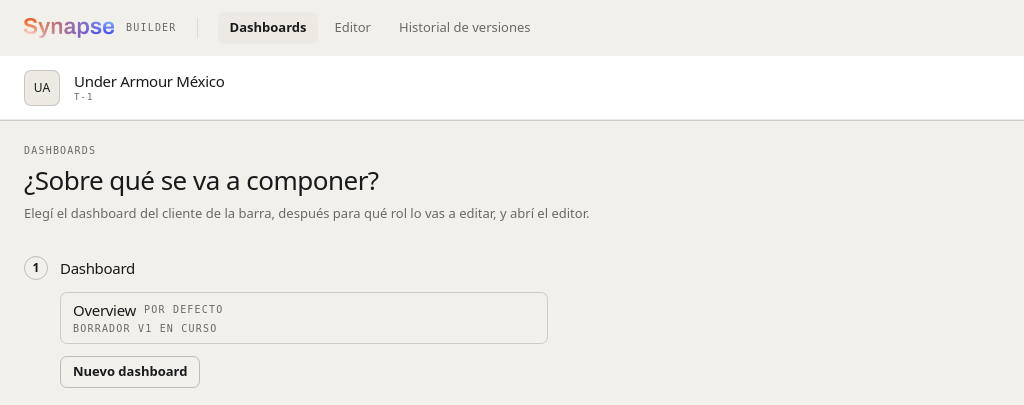
las pantallas que todavía no se pueden construir · ninguna › B2 ya NO se declara pendiente · la decisión de diseño llegó
Click the button "Editor": (353, 28) [322,12,383,44]
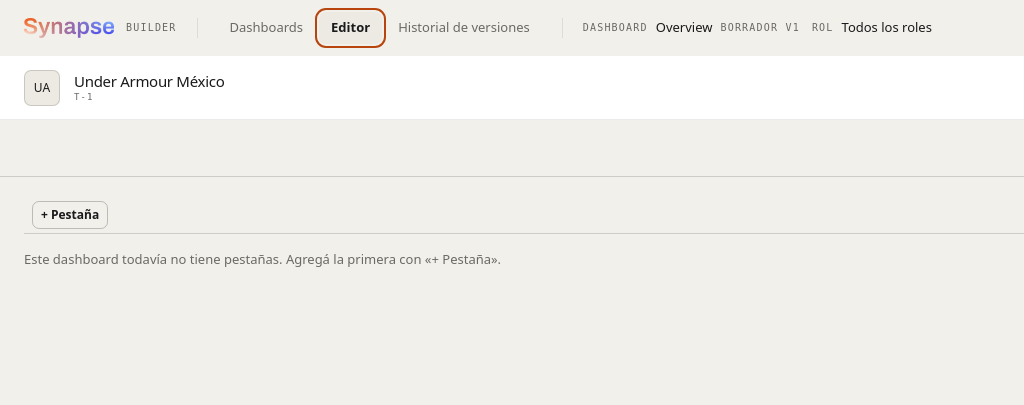
Check: the text "Este dashboard todavía no tiene pestañas. Agregá la primera con «+ Pestaña»." is shown, box [24,250,501,268]
